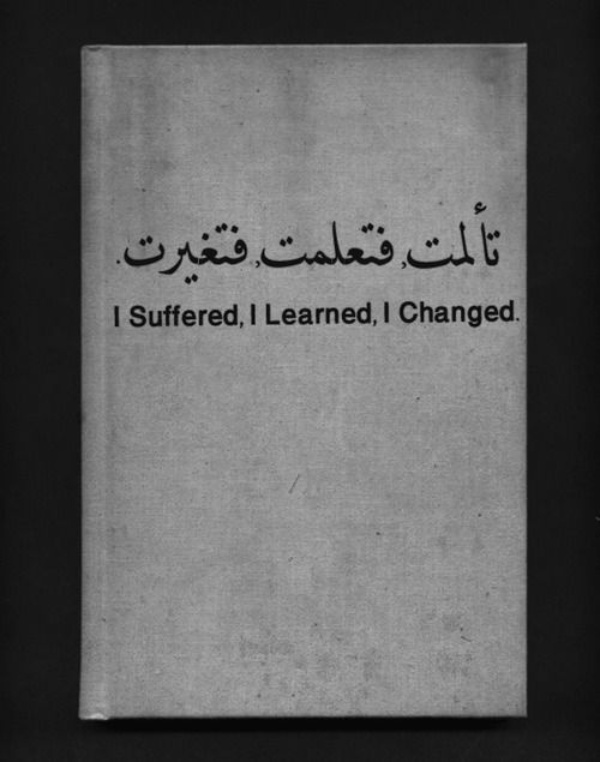text: (417, 199, 432, 274), (433, 199, 448, 274), (449, 199, 464, 274), (465, 199, 480, 274), (481, 199, 496, 274), (113, 221, 128, 286), (129, 221, 144, 286), (145, 221, 160, 286), (161, 221, 176, 286), (177, 221, 192, 286), (193, 221, 208, 286), (209, 221, 224, 286), (225, 221, 240, 286), (405, 199, 416, 274), (257, 219, 272, 269), (273, 219, 288, 269), (289, 219, 304, 269), (305, 219, 320, 269), (321, 219, 336, 269), (337, 219, 352, 269), (353, 219, 368, 269), (369, 219, 384, 269), (241, 221, 249, 286), (385, 219, 395, 269), (401, 297, 416, 328), (417, 297, 432, 328), (433, 297, 448, 328), (449, 297, 464, 328), (465, 297, 480, 328), (481, 297, 496, 328), (497, 297, 512, 328), (273, 299, 288, 329), (289, 299, 304, 329), (305, 299, 320, 329), (321, 299, 336, 329), (337, 299, 352, 329), (353, 299, 368, 329), (497, 199, 503, 274), (129, 304, 144, 329), (145, 304, 160, 329), (161, 304, 176, 329), (177, 304, 192, 329), (193, 304, 208, 329), (209, 304, 224, 329), (225, 304, 240, 329), (113, 299, 124, 332), (513, 297, 523, 328), (369, 299, 379, 329), (263, 299, 272, 329), (385, 296, 391, 329), (395, 297, 400, 328), (250, 303, 256, 328), (253, 219, 256, 269), (241, 304, 246, 329), (125, 304, 128, 329), (382, 296, 384, 329)
